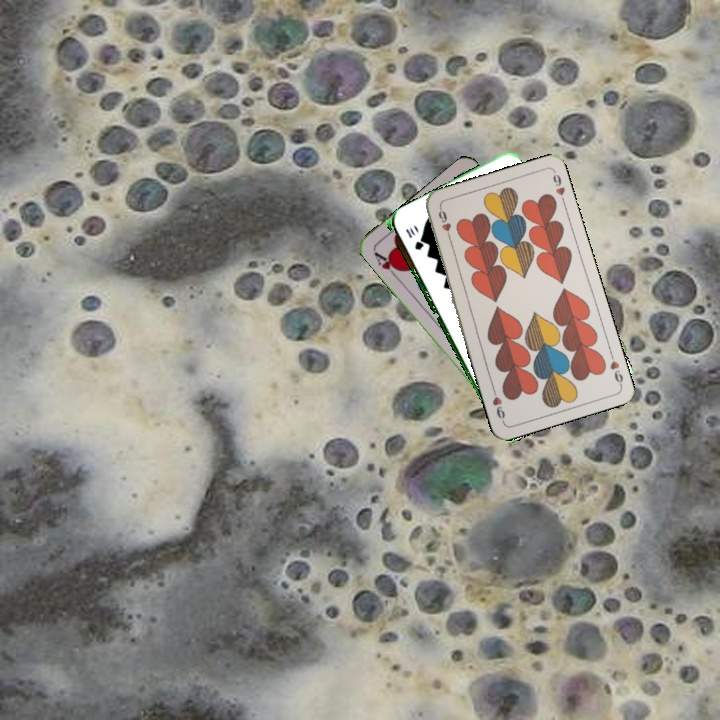G10: (401, 224, 425, 252)
H9: (606, 348, 626, 388), (434, 204, 454, 243)
HA: (370, 248, 404, 281)
